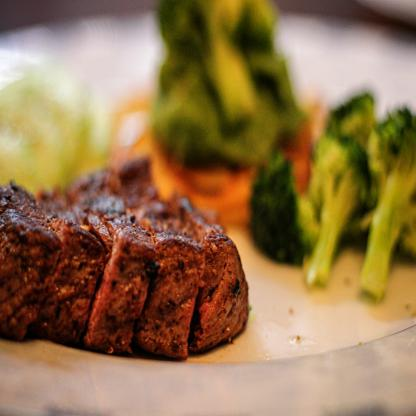Carne: (136, 178, 206, 362), (83, 177, 152, 354), (44, 175, 104, 335), (0, 178, 52, 336), (189, 221, 239, 352)
